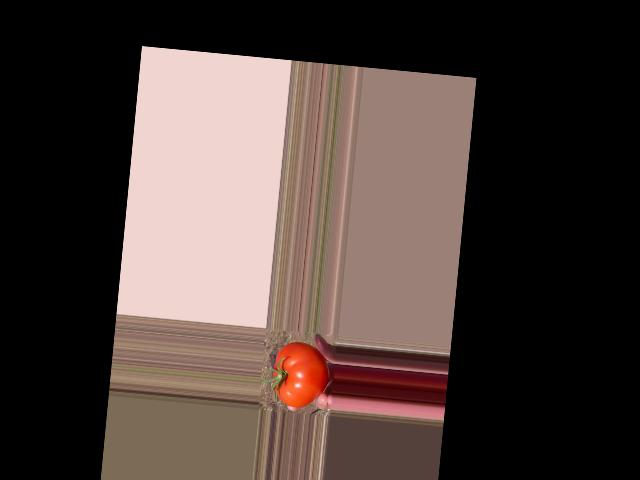tomato: (270, 340, 331, 410)
